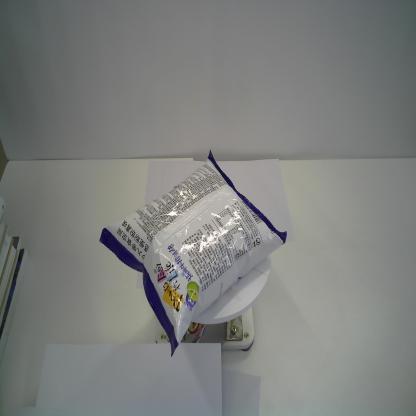Puffed Food: (100, 148, 288, 357)
